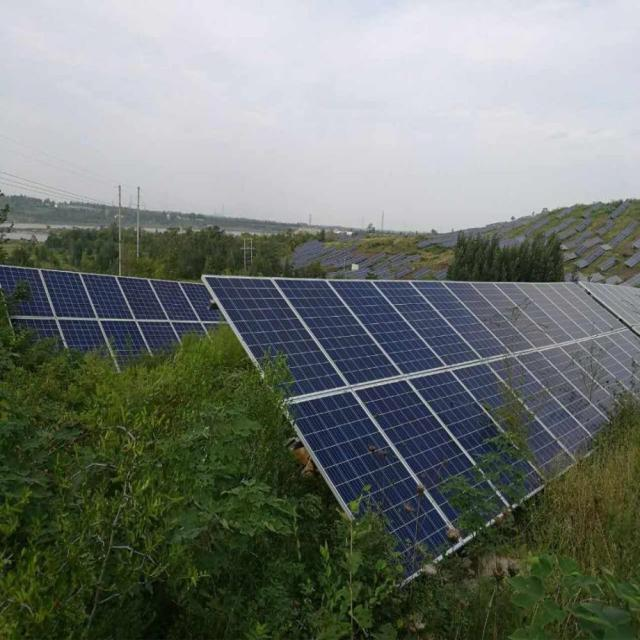clean-solar-panel: (202, 277, 640, 574)
